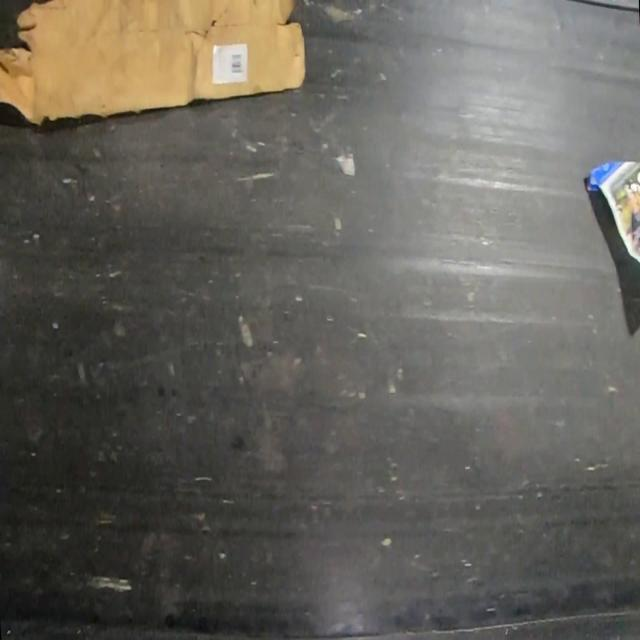cardboard: (0, 0, 307, 123)
